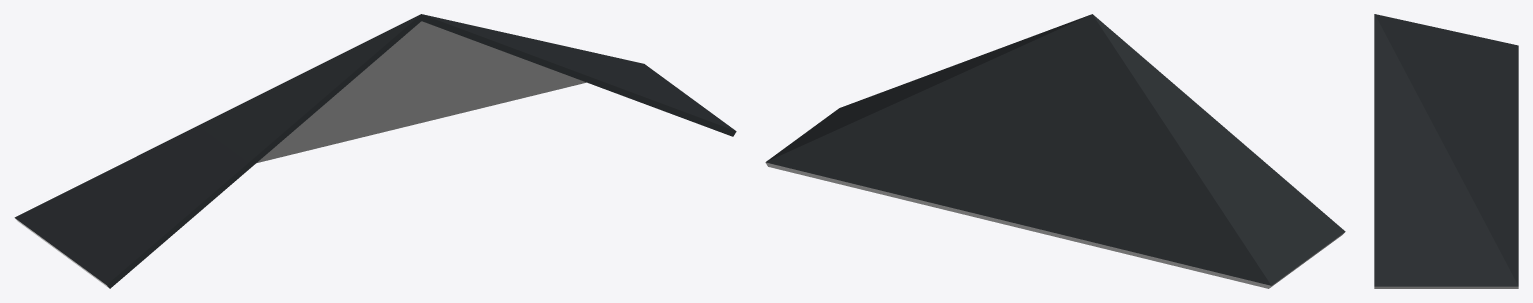
File: Roof4_C1_02.fbx
The picture shows the model from 3 angles, left to right: view 1: azimuth 30°, elevation 25°; view 2: azimuth 150°, elevation 25°; view 3: azimuth 270°, elevation 25°; orthographic projection. The views are drawn at different scales.
Parts seen in each view (by area): view 1: Roof4_C1_02; view 2: Roof4_C1_02; view 3: Roof4_C1_02.
Part boxes in pixels (box(x1,y1,x2,y2)): Roof4_C1_02: box(14, 14, 736, 288); Roof4_C1_02: box(765, 14, 1345, 288); Roof4_C1_02: box(1374, 14, 1518, 288).
Bounding box in the file's own units: 1105 × 333 × 280.
